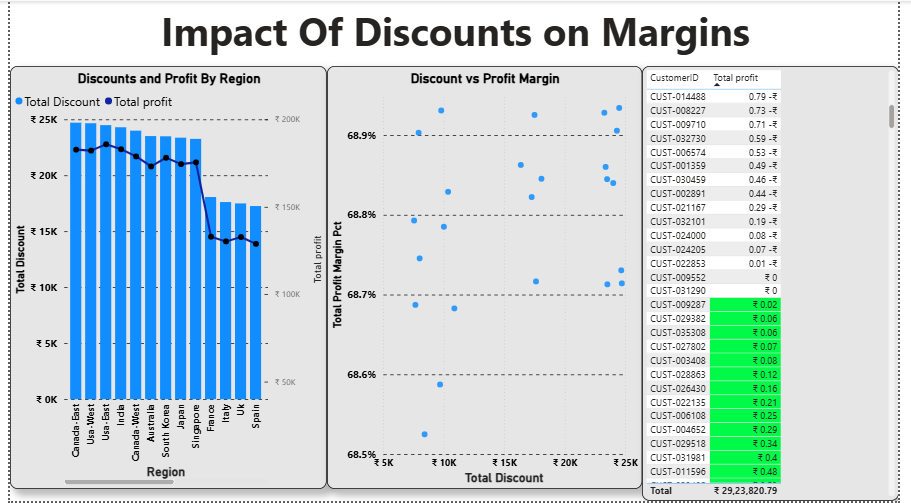

The dashboard page shown, as its layout file describes it:
{"tool":"powerbi","page":{"name":"Discount/Margins","canvas":[1280,720],"ordinal":6},"visuals":[{"type":"lineClusteredColumnComboChart","title":"Discounts and Profit By Region","fields":{"Category":["Telecom_RegionalPeople.Region"],"Y":["Measure.Total Discount"],"Y2":["Measure.Total profit"]},"box":[0,93.6,456.5,609.1],"z":0},{"type":"scatterChart","title":"Discount vs Profit Margin","fields":{"X":["Measure.Total Discount"],"Y":["Measure.Total Profit Margin Pct"],"Category":["Telecom_RegionalPeople.Region"]},"box":[456.5,93.6,453.6,609.1],"z":1000},{"type":"textbox","box":[105.1,0,1072.8,83.5],"z":2000},{"type":"tableEx","fields":{"Values":["Telecom_Customers.CustomerID","Measure.Total profit"]},"box":[910.1,93.6,370.1,626.4],"z":12000}]}

Visuals, with their boxes in screenshot pixels (x1, y1, x2, y2), scaled from the page's 1280x720 canvas onto the 911x503 screenshot:
"Discounts and Profit By Region" lineClusteredColumnComboChart: crop(0, 65, 325, 491)
"Discount vs Profit Margin" scatterChart: crop(325, 65, 648, 491)
textbox: crop(75, 0, 838, 58)
tableEx - Telecom_Customers.CustomerID x Measure.Total profit: crop(648, 65, 910, 502)
